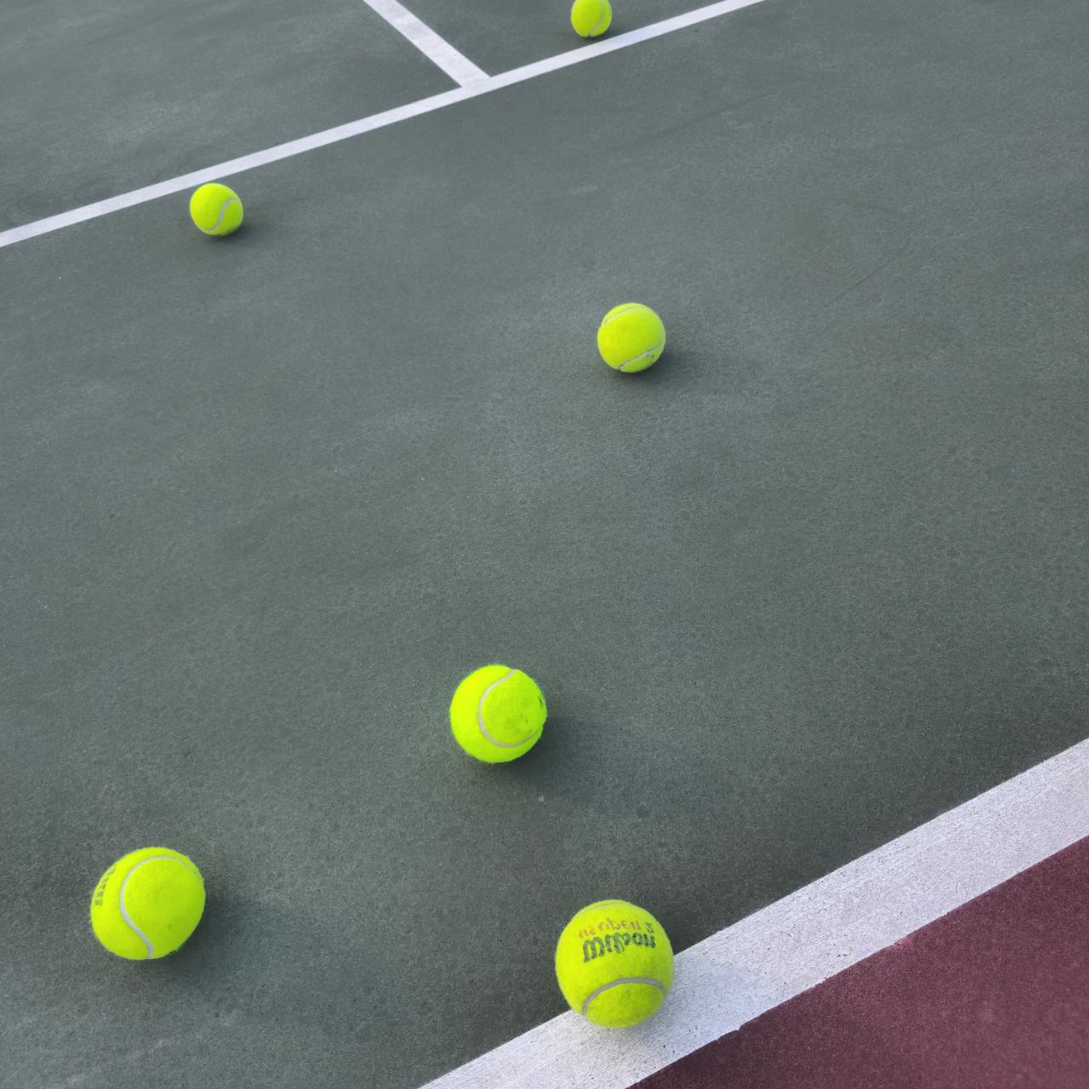tennis-ball: (554, 896, 676, 1029), (88, 843, 208, 962), (449, 660, 550, 764), (596, 299, 669, 374), (189, 180, 247, 237), (570, 0, 614, 37)
